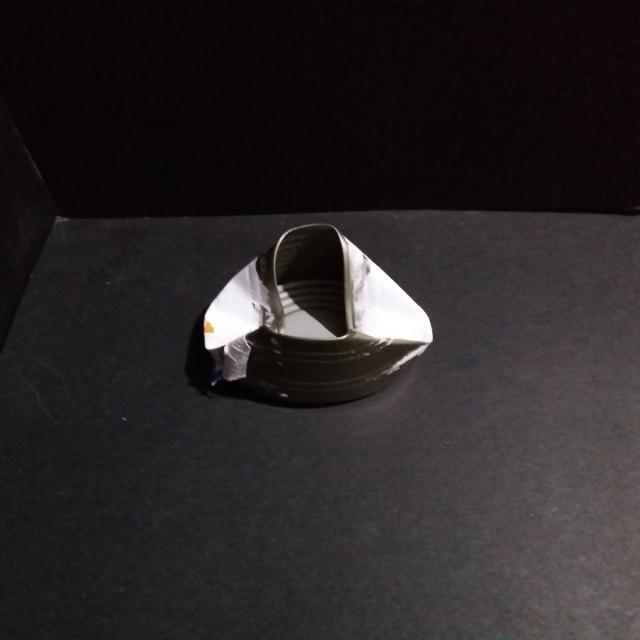metal-can: (195, 216, 438, 406)
